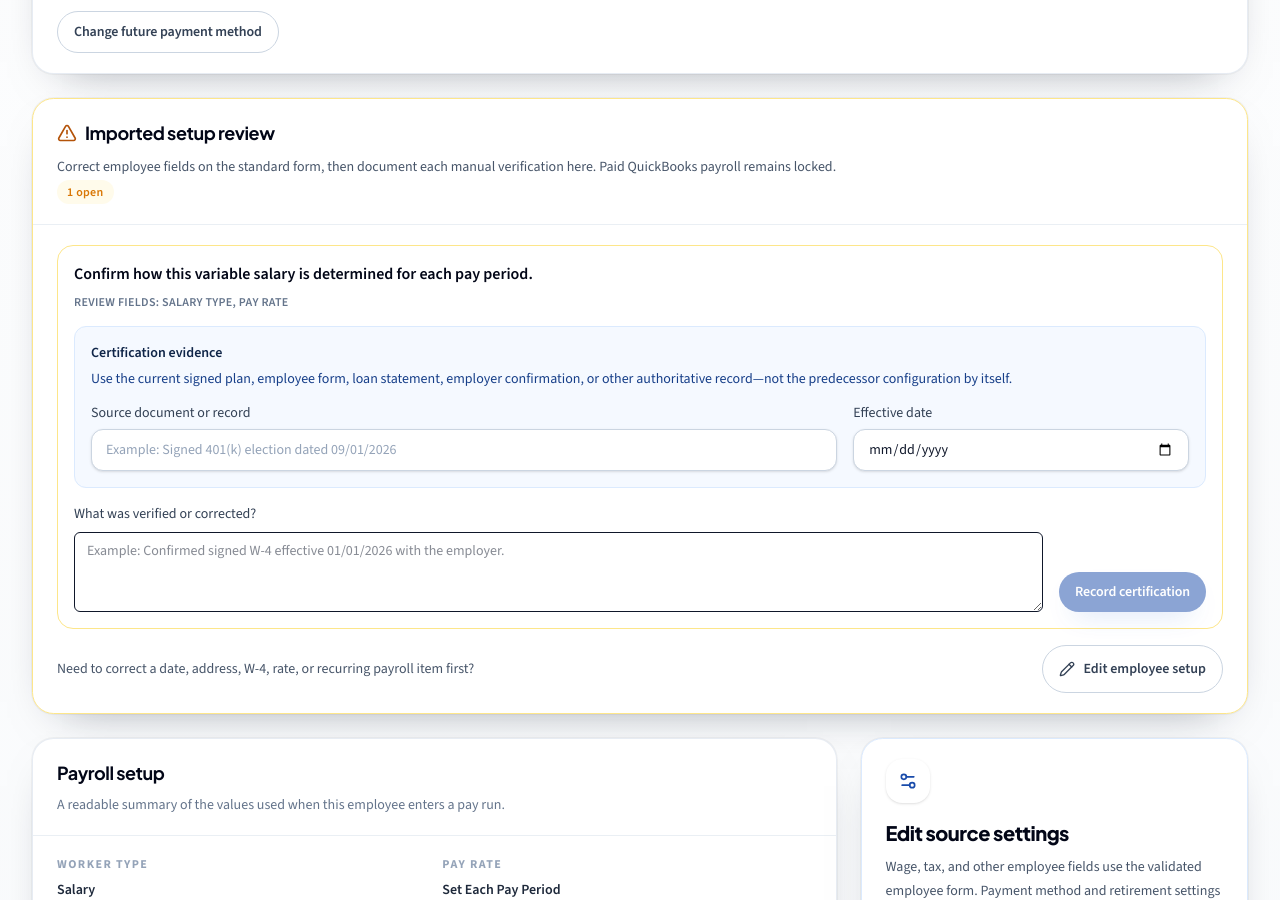
it: EmployeeWorkspace imported setup certification › requires authoritative source evidence and sends it with the certification
The width and height of the screenshot is (1280, 900).
(page scrolled)
Expected: the button "Record certification" is disabled, [1059,572,1206,612]
Type "Signed owner compensation instruction dated 09/01/2026" into the field labelled "Source document or record". click: coordinates (464, 450)
box: [91,429,837,471]
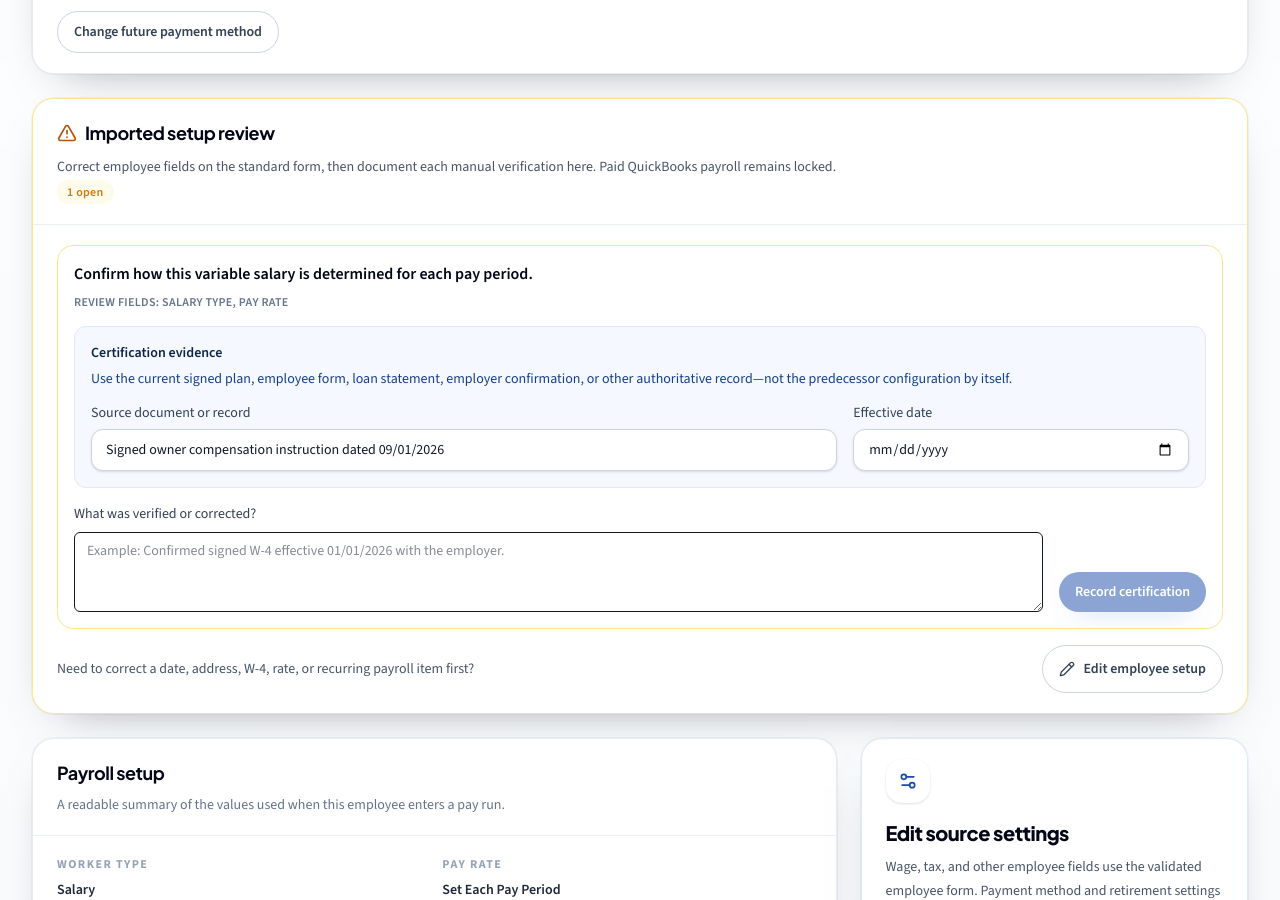
Type "2026-09-01" into the date field labelled "Effective date". click: coordinates (1021, 450)
box: [853,429,1189,471]
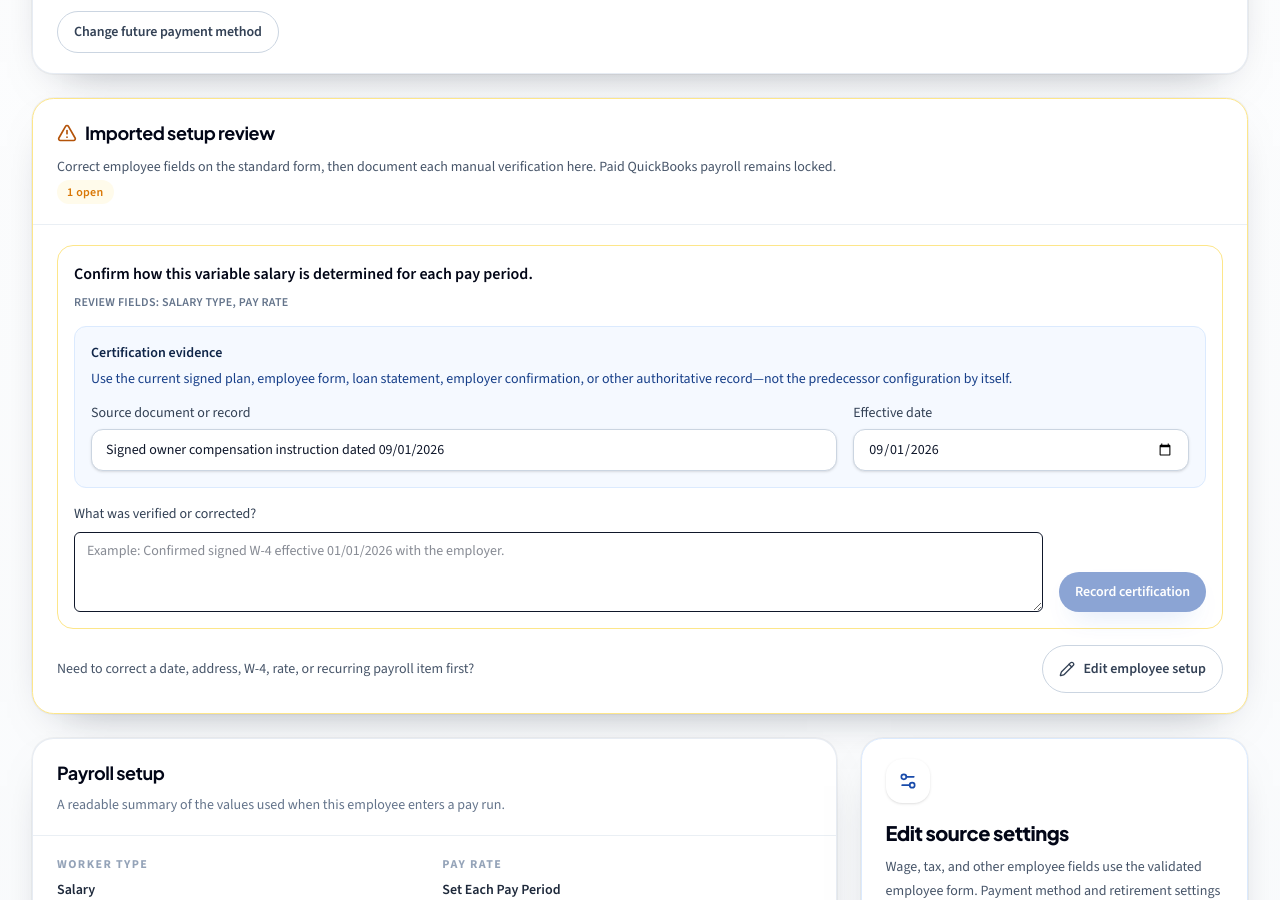
Replace the text in the text box labelled "What was verified or corrected?" with "Confirmed that Mo supplies a separate approved amount for every regular payroll.". click: coordinates (559, 572)
box: [74,532,1043,612]
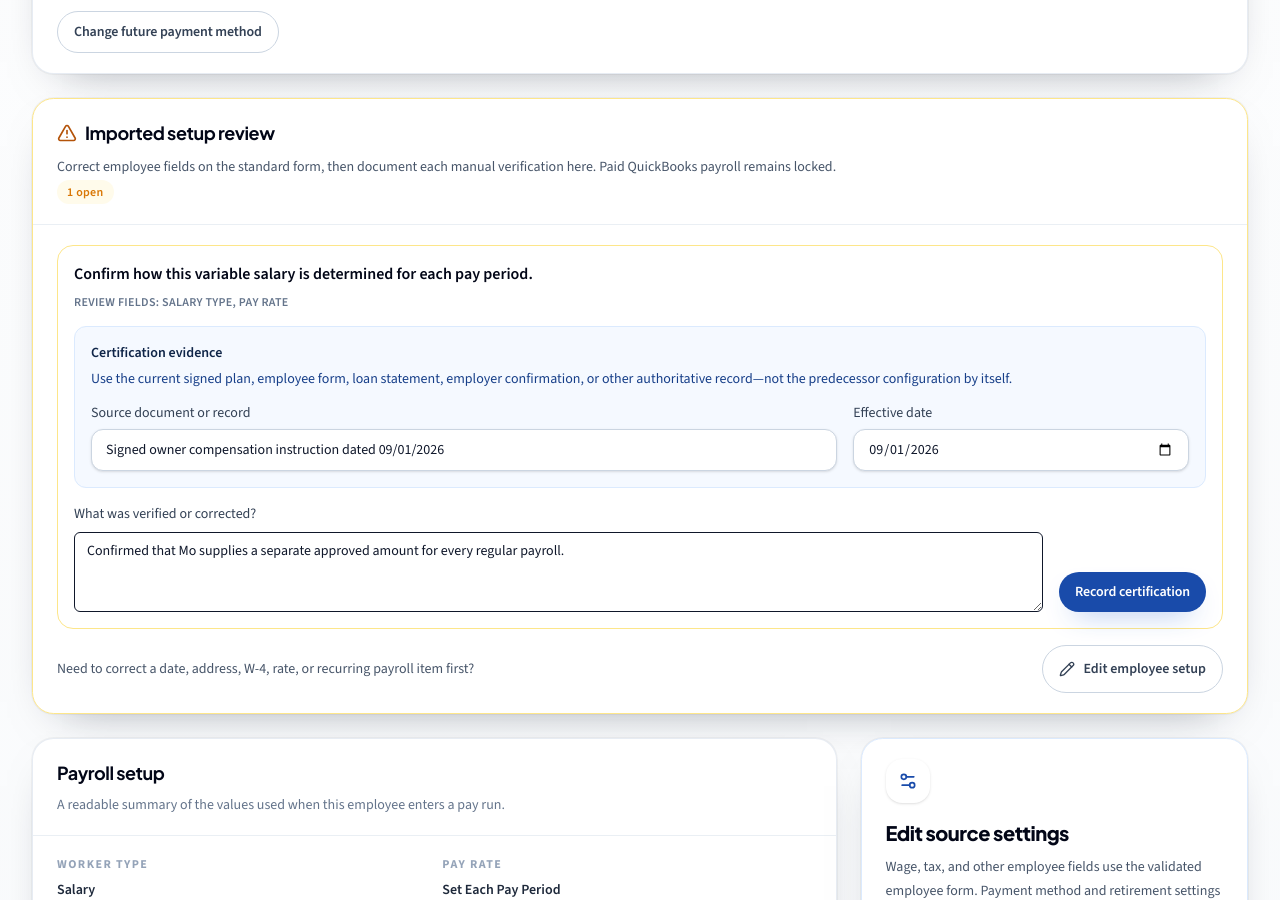
Click the button "Record certification". click: coordinates (1133, 592)
box: [1059,572,1206,612]
(page scrolled)
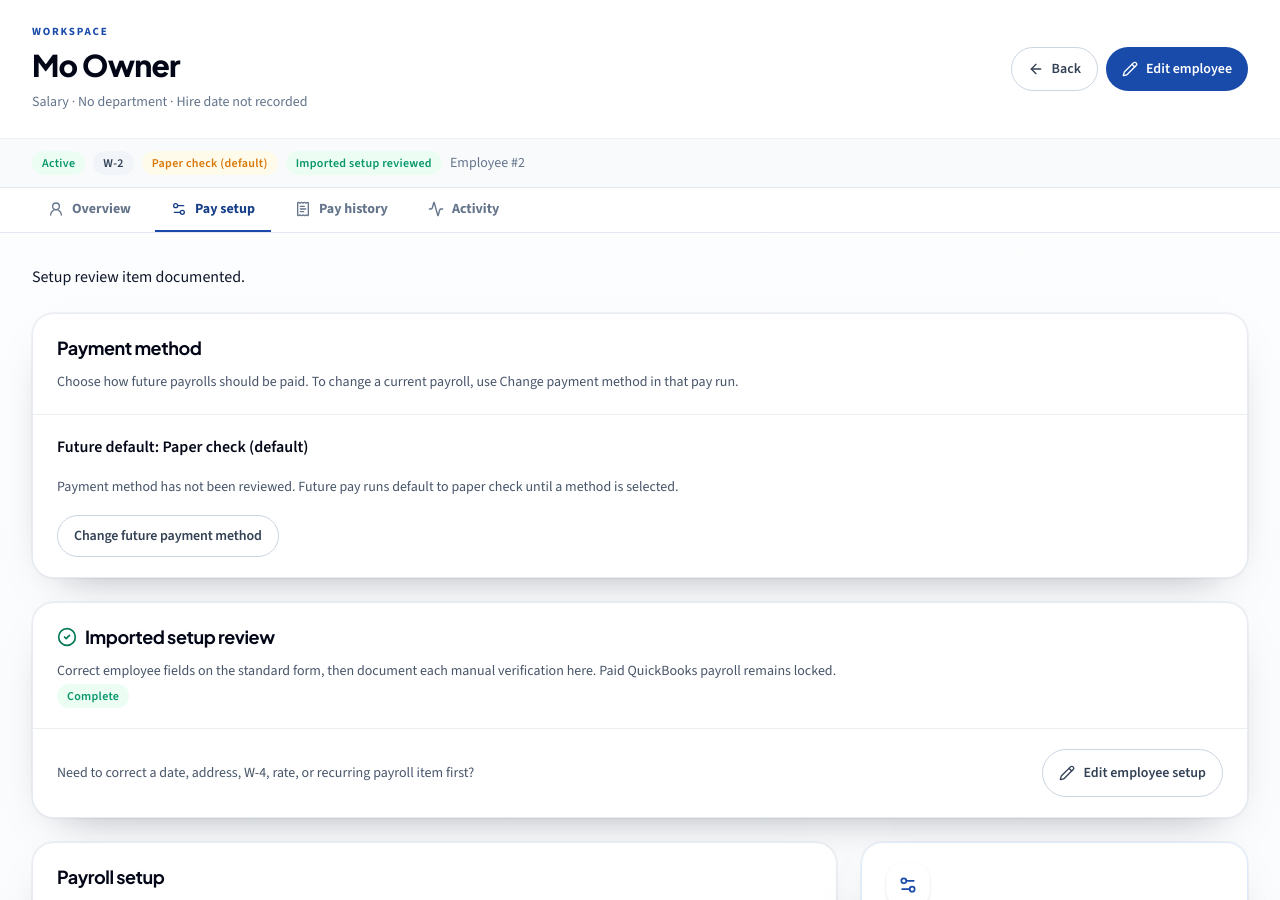
Now the text "Setup review item documented." is shown, box [32,266,245,287]
